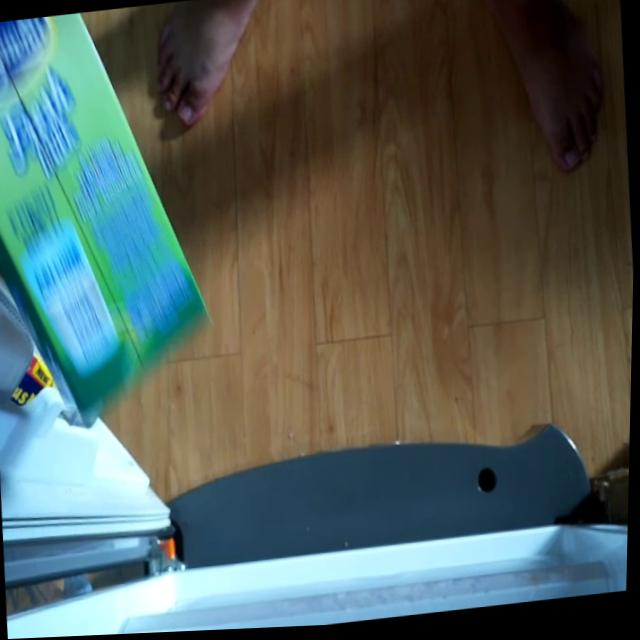milk: (0, 4, 232, 447)
